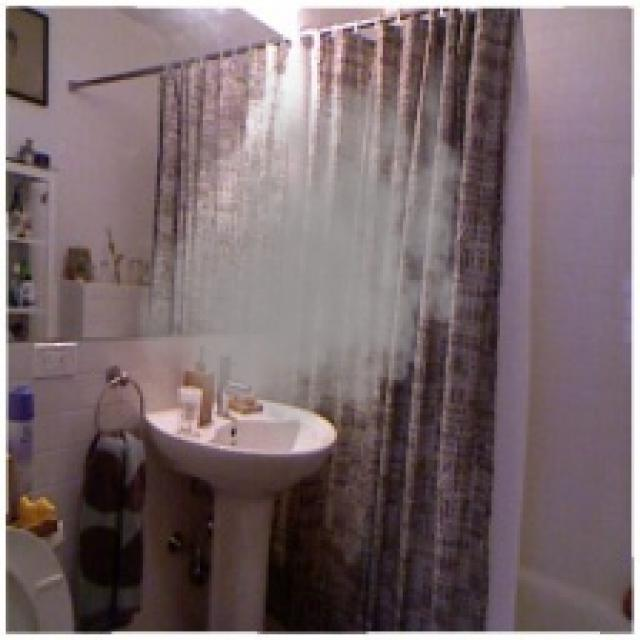smoke: (126, 43, 483, 463)
